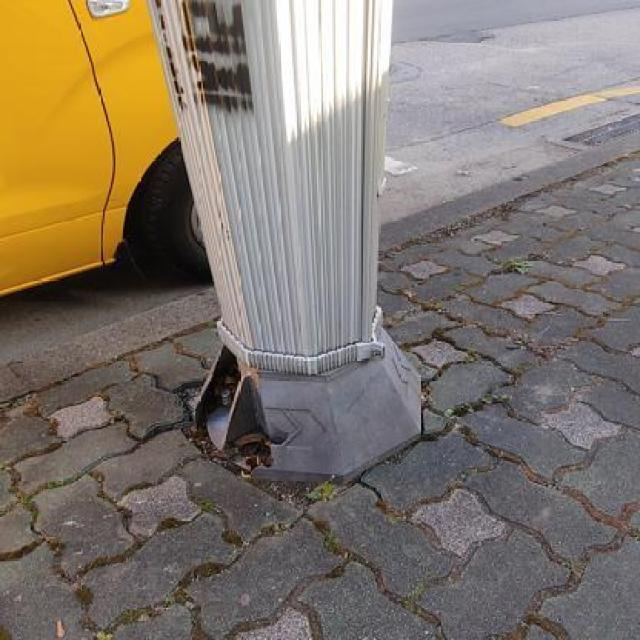pole: (160, 17, 437, 497)
